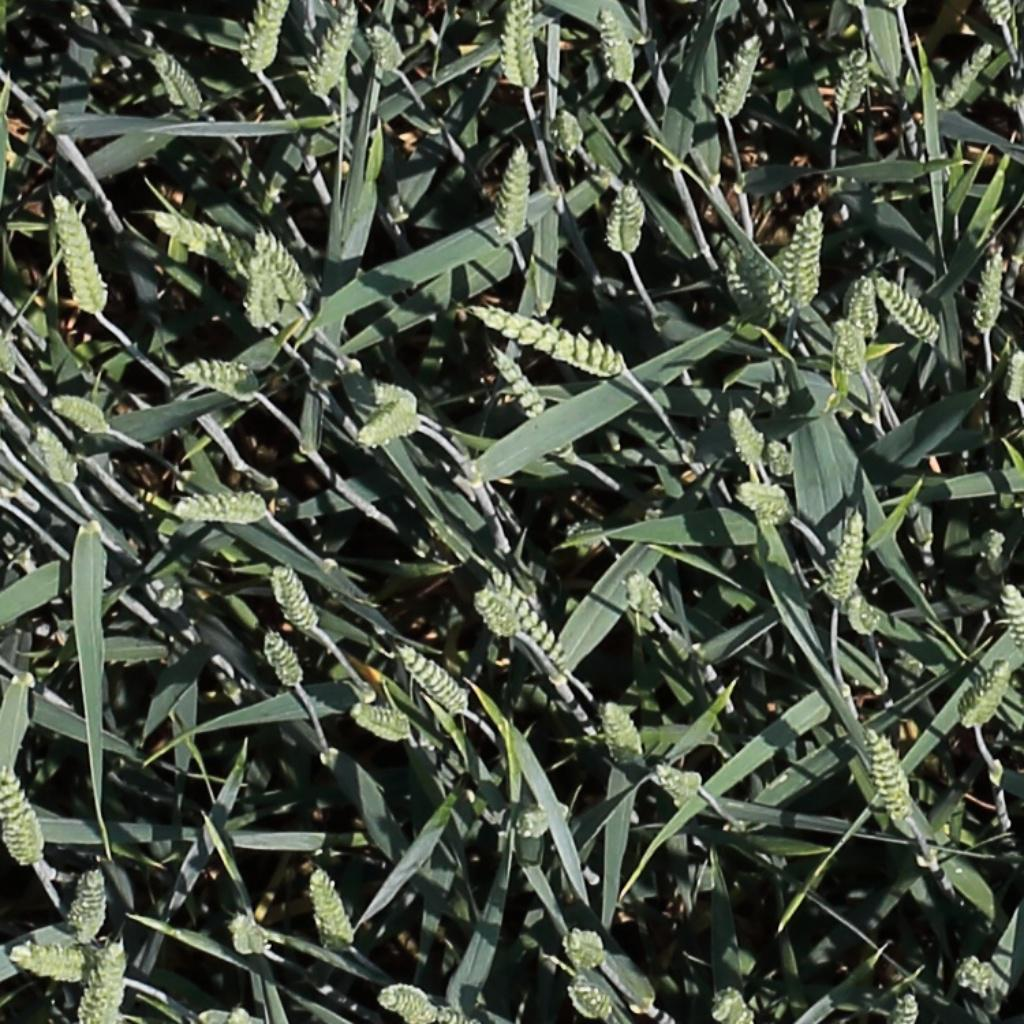0-0: (472, 305, 623, 374), (488, 567, 574, 677), (50, 192, 106, 316), (734, 240, 801, 326), (395, 644, 472, 718), (865, 726, 917, 830), (249, 222, 311, 308), (490, 341, 551, 425), (936, 35, 999, 116), (308, 2, 360, 99), (873, 275, 944, 345), (716, 28, 767, 124), (162, 488, 288, 525), (146, 43, 207, 118), (957, 658, 1017, 734), (0, 768, 45, 868), (268, 558, 322, 640), (307, 865, 357, 953), (154, 210, 243, 258), (722, 244, 771, 329), (831, 505, 869, 608), (495, 795, 566, 849), (30, 417, 79, 491), (598, 4, 640, 90), (791, 204, 826, 307), (599, 699, 649, 770), (957, 947, 1013, 1010), (501, 137, 532, 245), (259, 623, 305, 694), (245, 2, 289, 76), (181, 358, 265, 396), (974, 243, 1007, 338), (727, 400, 770, 471), (73, 862, 106, 951), (472, 587, 524, 643), (507, 0, 537, 95), (835, 45, 873, 118), (364, 17, 408, 79), (75, 947, 111, 1022), (832, 312, 871, 380), (359, 402, 420, 445), (249, 243, 275, 334), (99, 936, 126, 1022), (350, 705, 413, 741), (51, 394, 110, 432), (626, 566, 666, 622), (230, 907, 270, 962), (617, 176, 644, 256), (847, 591, 887, 643), (854, 270, 882, 344), (554, 99, 587, 158), (563, 931, 610, 972), (999, 580, 1024, 656), (655, 765, 703, 804), (570, 981, 615, 1021), (9, 950, 87, 973), (380, 989, 436, 1021), (738, 484, 795, 514), (764, 434, 798, 483), (981, 520, 1007, 582), (0, 293, 17, 379), (367, 380, 415, 410), (715, 984, 750, 1024), (1003, 342, 1024, 408), (895, 983, 922, 1024), (984, 0, 1015, 32)
